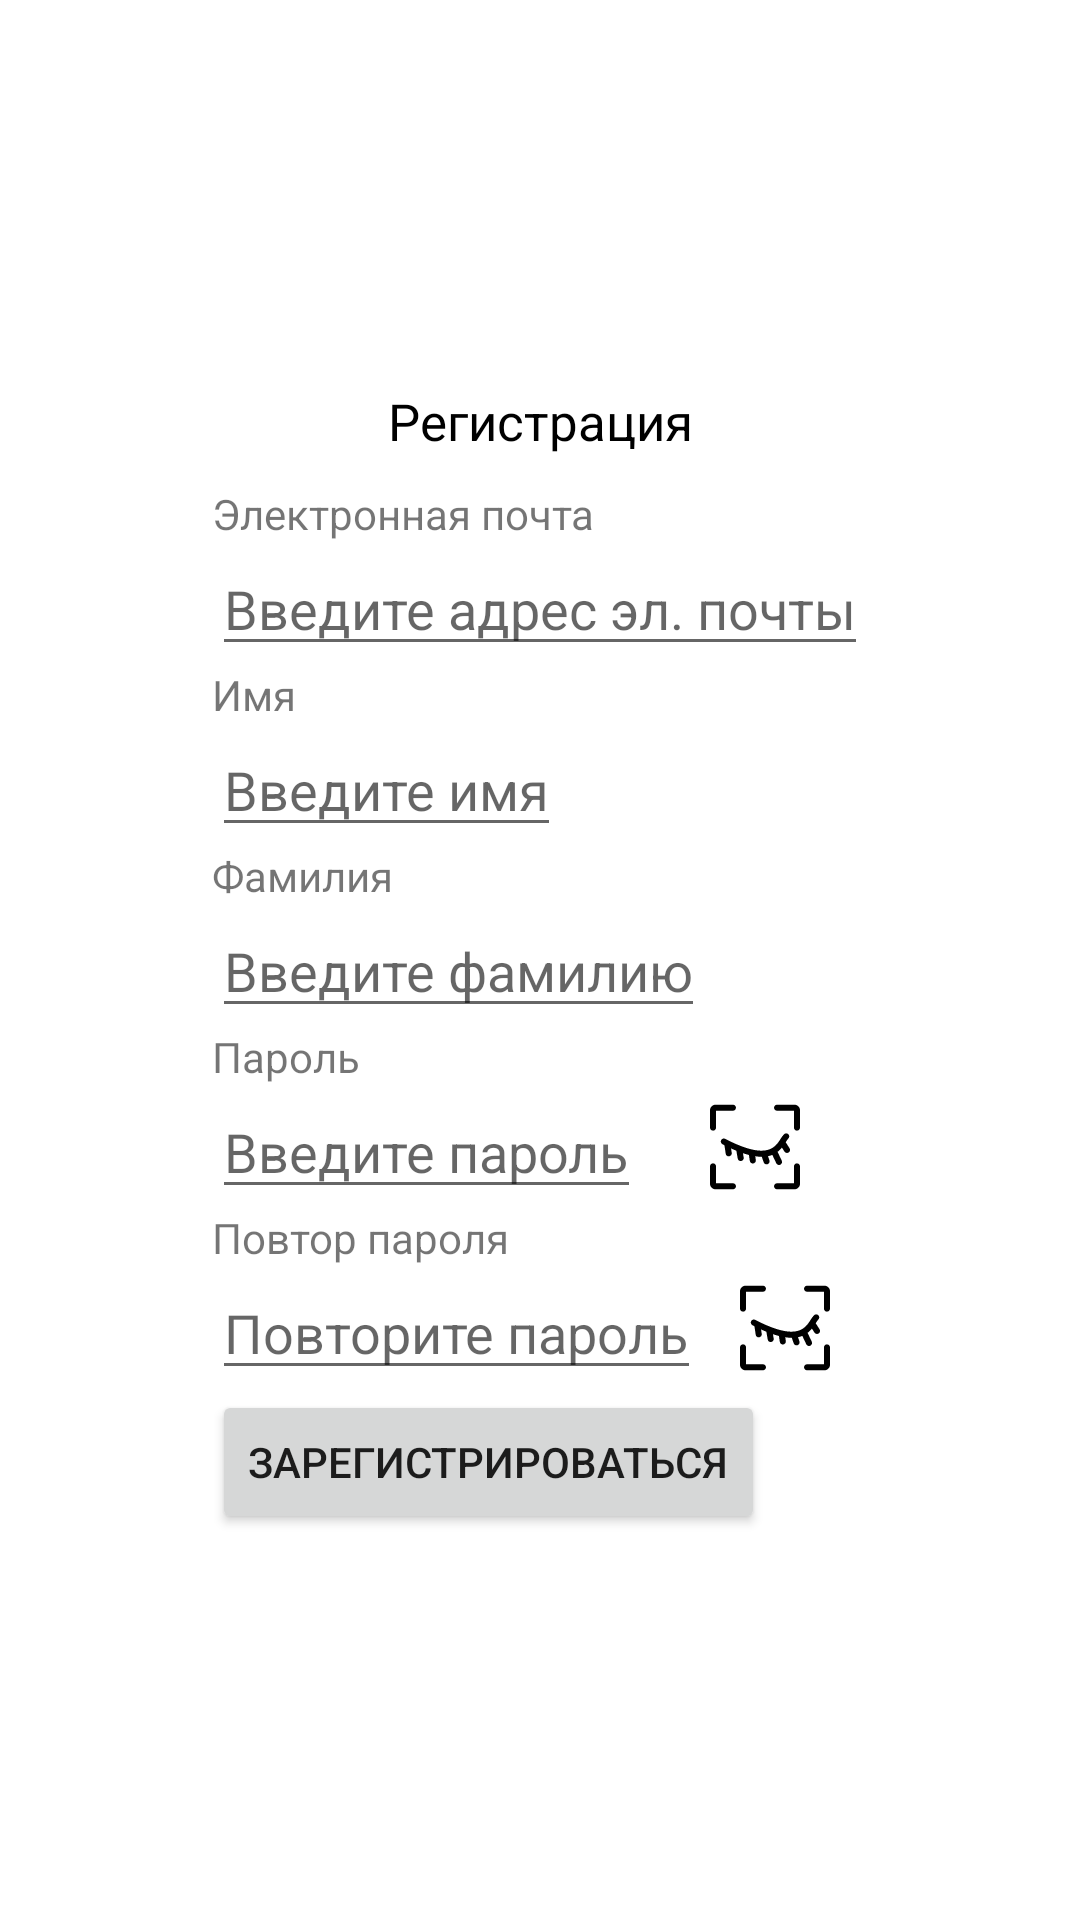

Icon bounding boxes for this 1080 x 1920 phone screenshot, format (x1, y1, x2, y2):
eye closed: (710, 1104, 800, 1190), (740, 1285, 830, 1371)
